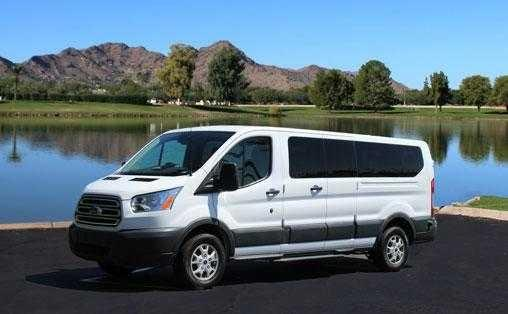car: (57, 127, 435, 289)
